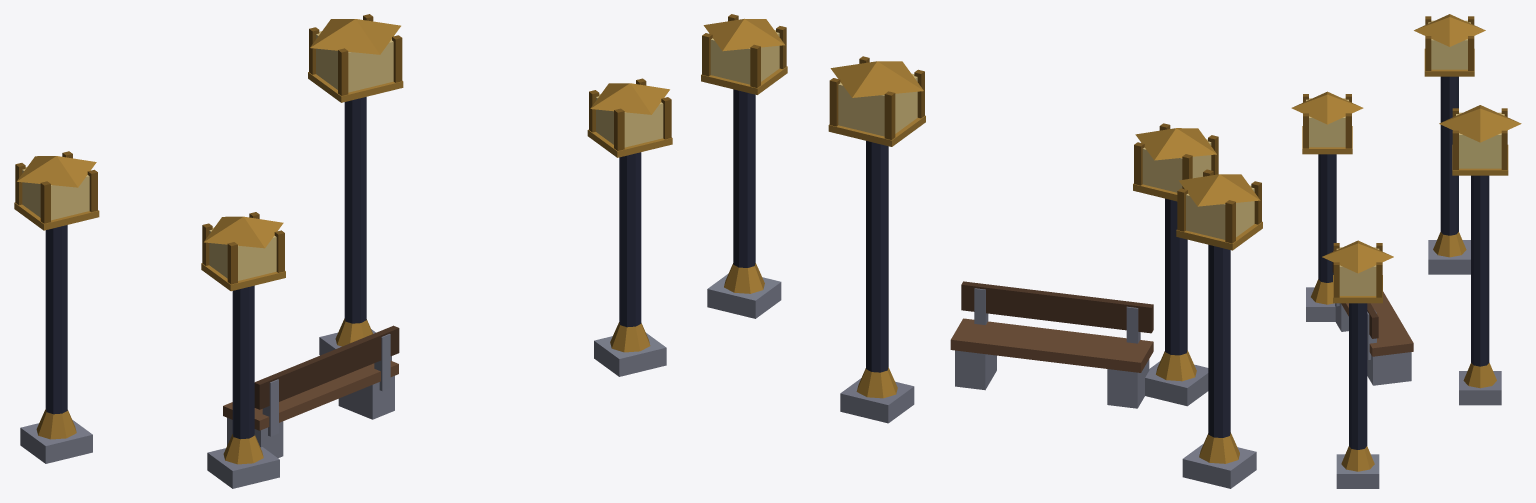
The model's file is Decor_Observatory_Lamps.fbx.
3 views of the same model, side by side, from view 1: azimuth 30°, elevation 25°; view 2: azimuth 150°, elevation 25°; view 3: azimuth 270°, elevation 25° (orthographic). The views are drawn at different scales.
Visible parts, largest first — view 1: Lamps_Body; view 2: Lamps_Body; view 3: Lamps_Body.
Part boxes in pixels (x1,y1,x2,y2): Lamps_Body: (14, 14, 672, 488); Lamps_Body: (701, 14, 1262, 488); Lamps_Body: (1291, 14, 1521, 488).
Bounding box in the file's own units: 17 × 9.2 × 6.7.
